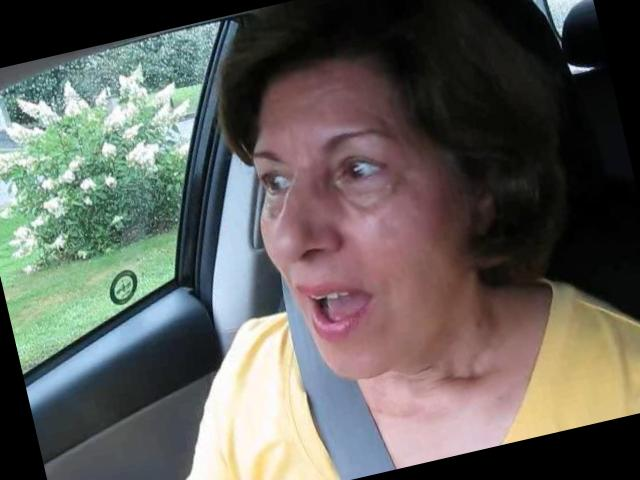eye_open: (328, 141, 397, 194), (254, 163, 297, 202)
face: (230, 86, 476, 397)
mouth_open: (292, 266, 388, 348)
